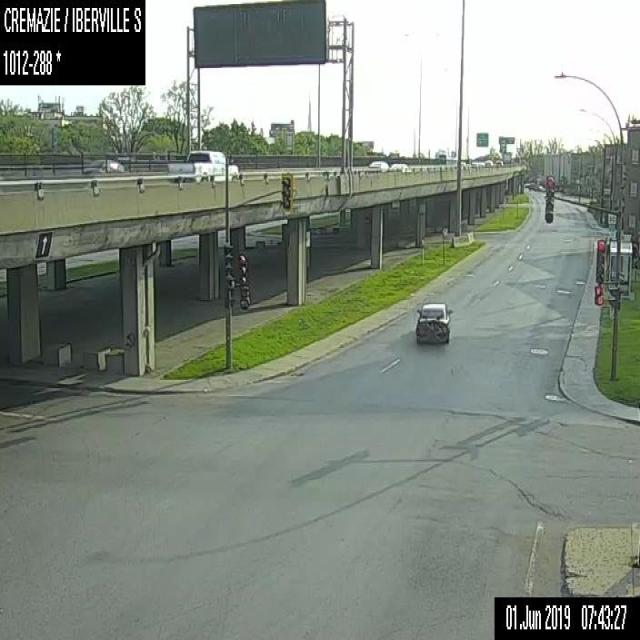vehicle: (165, 148, 239, 182), (414, 299, 452, 344), (83, 156, 129, 175), (368, 158, 389, 172), (389, 162, 410, 171), (470, 160, 478, 168), (484, 159, 492, 167), (494, 159, 503, 166), (460, 160, 466, 169), (477, 160, 484, 167)
